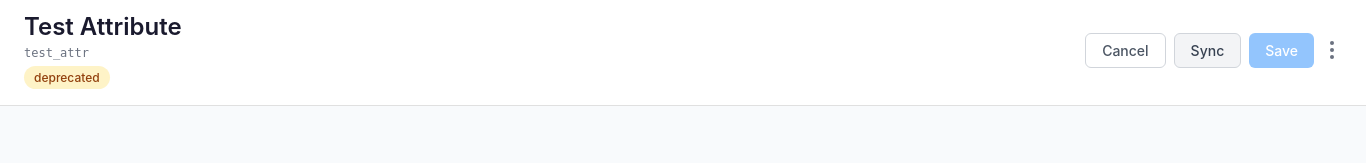
it: AttributeHeader › Kebab Menu › shows Already Deprecated for deprecated attributes
Click the button with test id "kebab-button": coordinates (1332, 50) top-left (1322, 33), bottom-right (1342, 67)
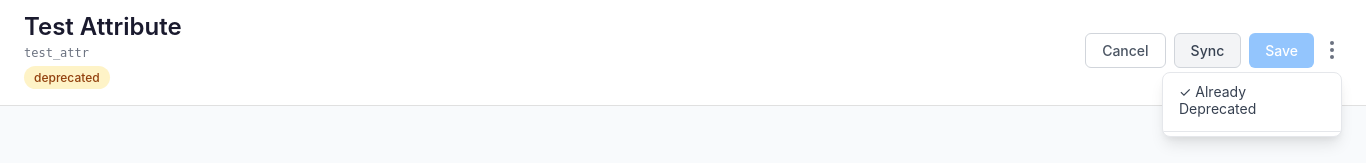
Expected: the menu item "✓ Already Deprecated" is shown, top-left (1163, 73), bottom-right (1341, 127)
